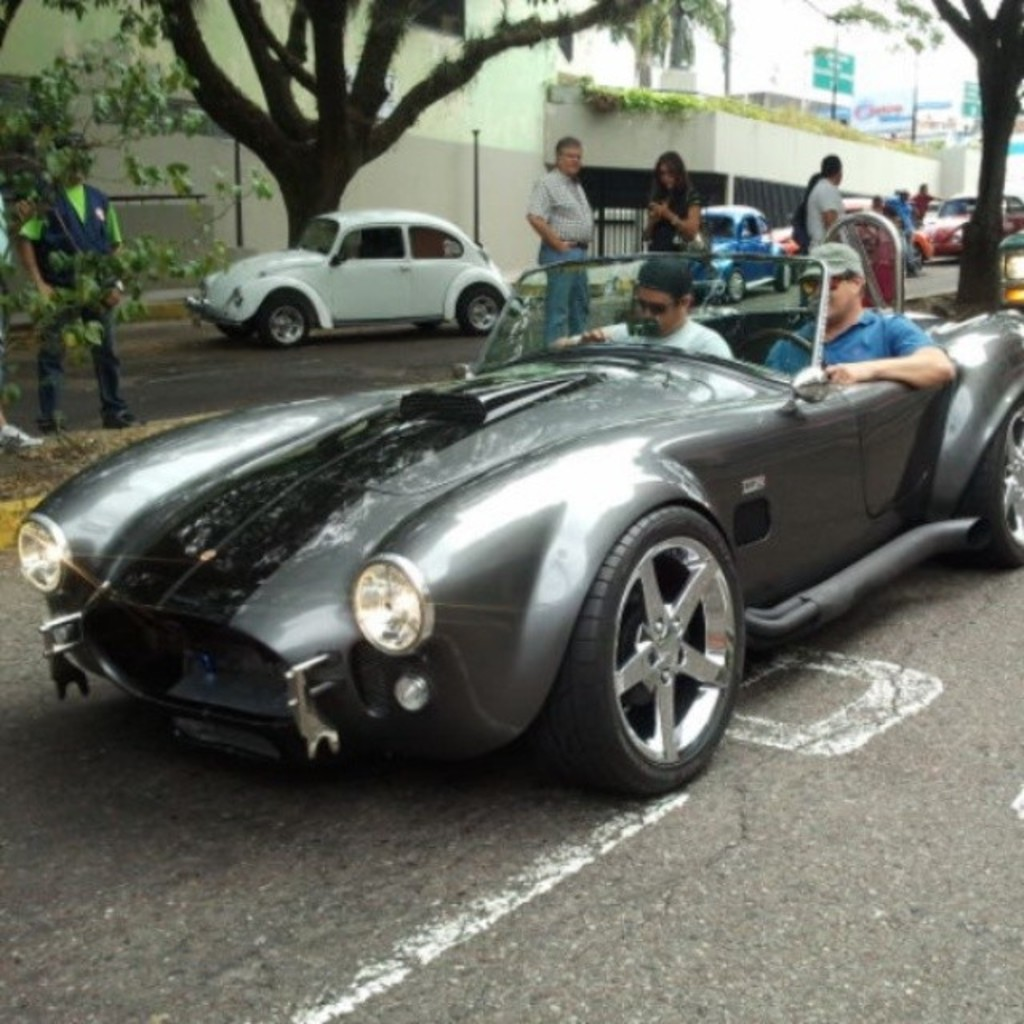Tree: (41, 0, 733, 243), (931, 0, 1024, 320), (600, 0, 733, 87)
